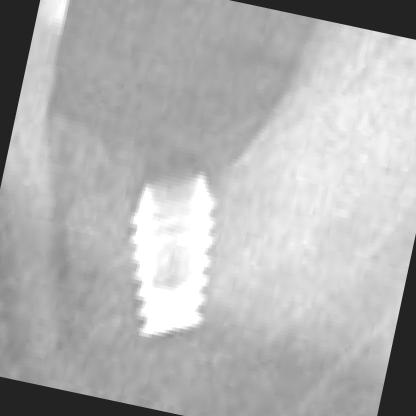Bicon: (127, 171, 217, 337)
